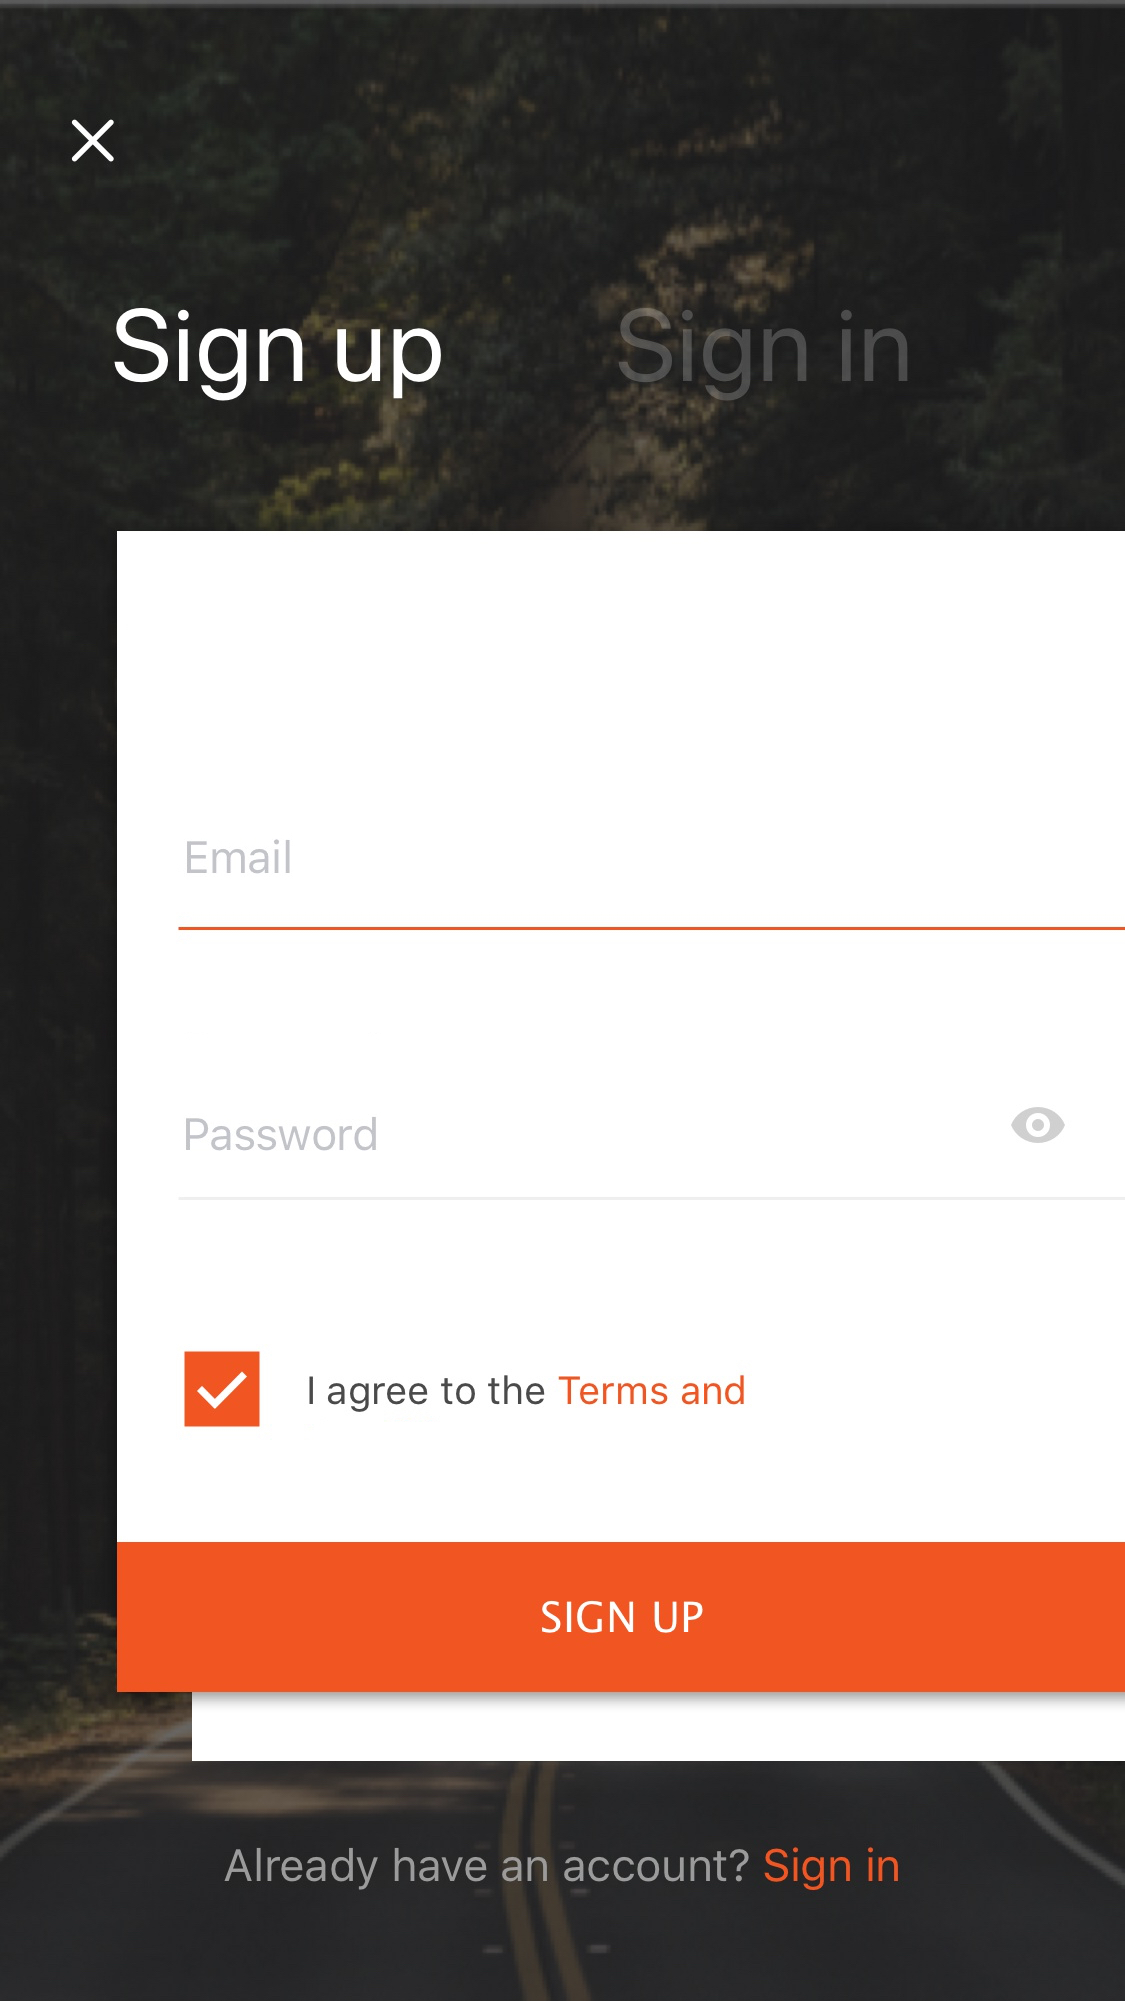CheckedTextView: (184, 1350, 746, 1428)
EditText: (179, 1106, 1125, 1203), (179, 838, 1125, 932)
Icon: (1011, 1106, 1066, 1143), (71, 120, 115, 164)
Text: (224, 1846, 900, 1892), (114, 308, 444, 403), (617, 306, 909, 404), (308, 1373, 746, 1413), (185, 1117, 378, 1152), (187, 838, 293, 875)
TextButton: (117, 1542, 1125, 1692)
